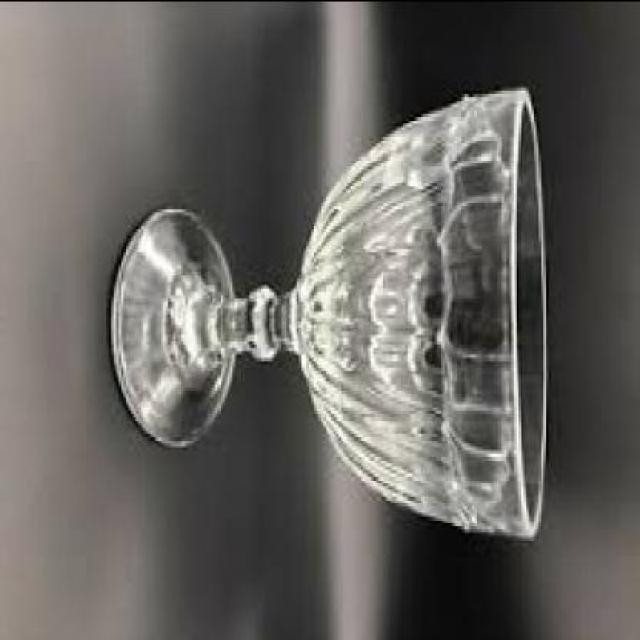glass: (114, 83, 551, 535)
